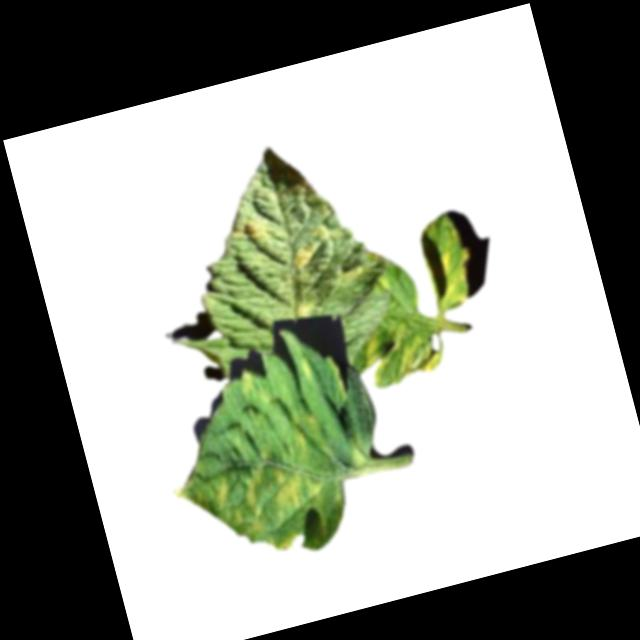Leaf_Mold: (161, 411, 348, 574), (358, 314, 454, 390), (416, 214, 480, 315), (229, 211, 276, 249), (286, 235, 330, 272), (292, 296, 318, 318)
